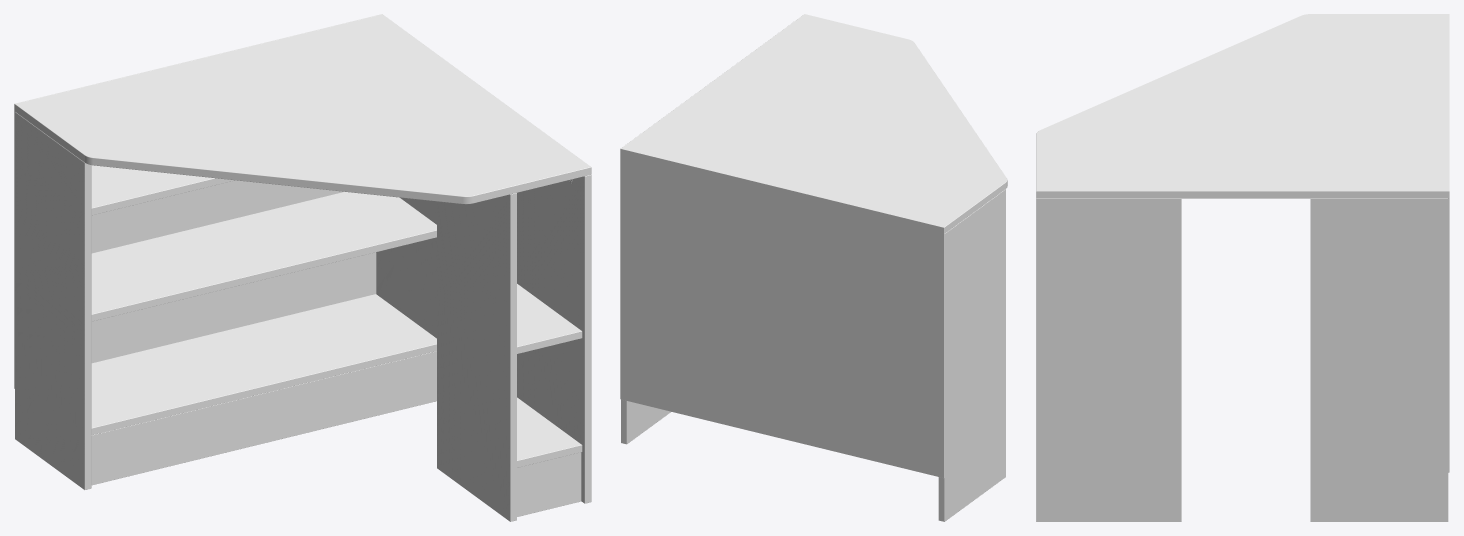
The model's file is desk_B07QWZDK9S.glb.
3 renders of one model, left to right at view 1: azimuth 30°, elevation 25°; view 2: azimuth 150°, elevation 25°; view 3: azimuth 270°, elevation 25°, orthographic. The views are drawn at different scales.
Parts seen in each view (by area): view 1: RootNode; view 2: RootNode; view 3: RootNode.
Boxes of the visible parts, <box> form: RootNode: <box>14,14,591,521</box>; RootNode: <box>620,14,1007,521</box>; RootNode: <box>1036,14,1449,521</box>.
Size of the model in its own units: 0.9398 by 0.8179 by 0.9259.
1 material, 1 textured.
